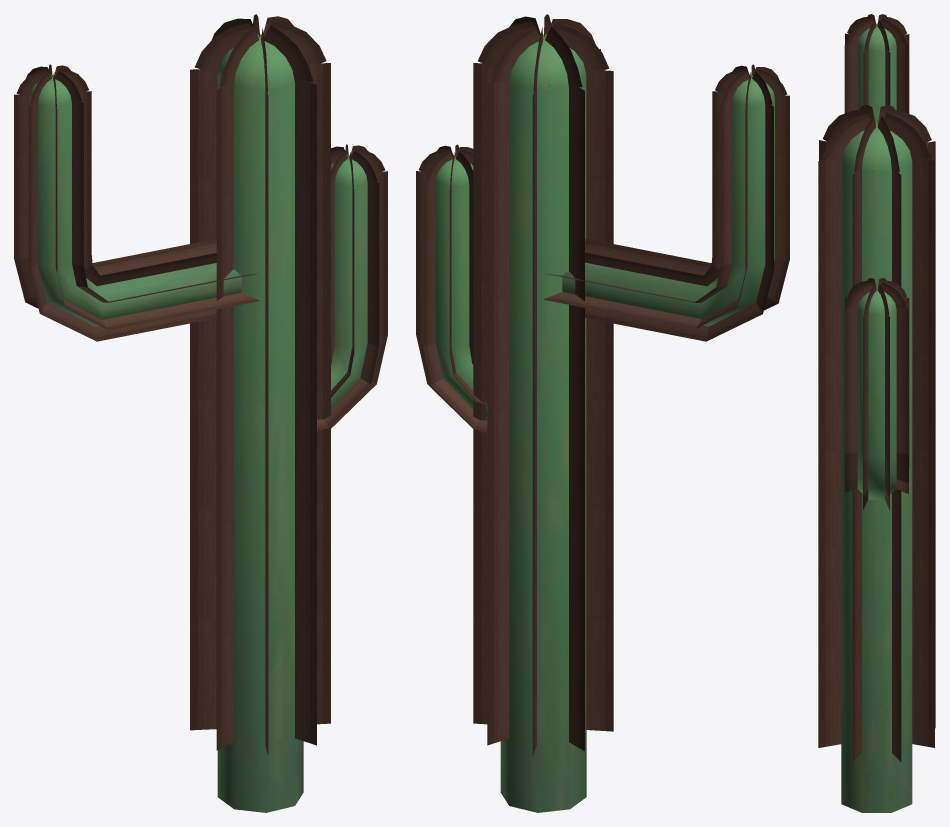
File: Canyon_Cactus_Tall_5.glb
3 views of the same model, side by side, from view 1: azimuth 30°, elevation 25°; view 2: azimuth 150°, elevation 25°; view 3: azimuth 270°, elevation 25° (orthographic). The views are drawn at different scales.
Parts seen in each view (by area): view 1: Canyon_Cactus_Tall_5_0; view 2: Canyon_Cactus_Tall_5_0; view 3: Canyon_Cactus_Tall_5_0.
Boxes of the visible parts, x1,y1,x2,y2 form: Canyon_Cactus_Tall_5_0: (14, 14, 387, 812); Canyon_Cactus_Tall_5_0: (416, 14, 789, 812); Canyon_Cactus_Tall_5_0: (818, 14, 935, 812).
Size of the model in its own units: 1.06 by 2.19 by 0.3367.
1 material, 1 textured.
